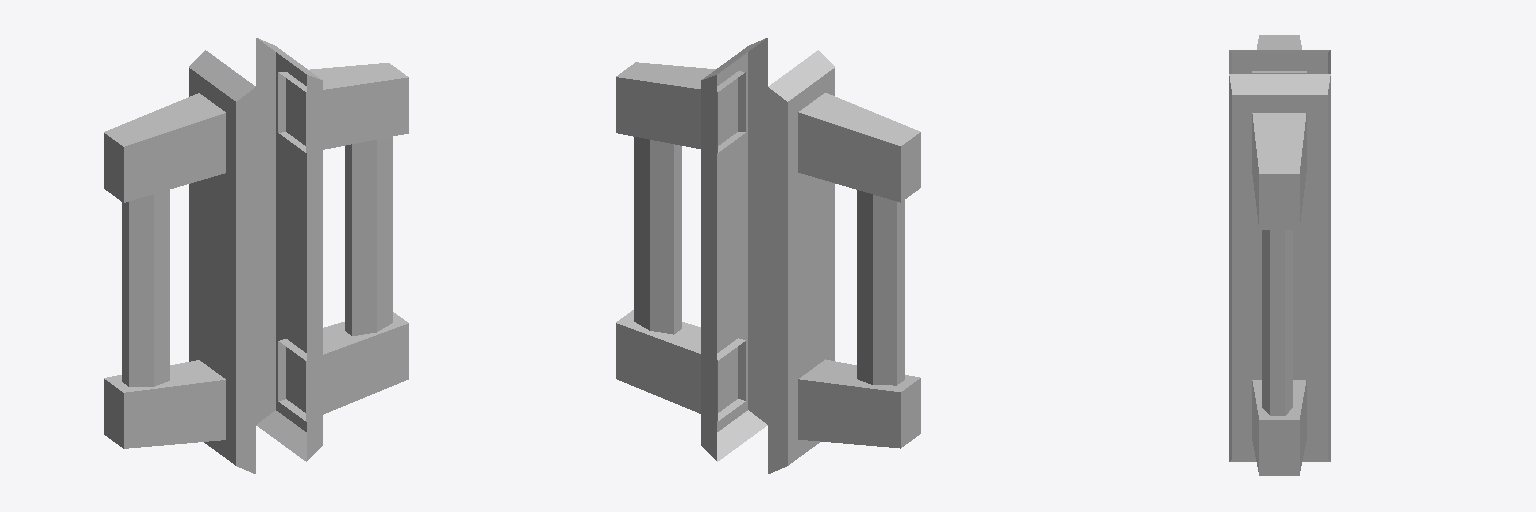
The model's file is door handle.obj.
3 renders of one model, left to right at view 1: azimuth 30°, elevation 25°; view 2: azimuth 150°, elevation 25°; view 3: azimuth 270°, elevation 25°, orthographic.
Parts seen in each view (by area): view 1: Plane.005_Plane.008; view 2: Plane.005_Plane.008; view 3: Plane.005_Plane.008.
Part boxes in pixels (left/top/right/bottom): Plane.005_Plane.008: left=104, top=38, right=408, bottom=473; Plane.005_Plane.008: left=616, top=38, right=920, bottom=473; Plane.005_Plane.008: left=1229, top=35, right=1330, bottom=475.
Size of the model in its own units: 0.3702 by 0.4809 by 0.114.